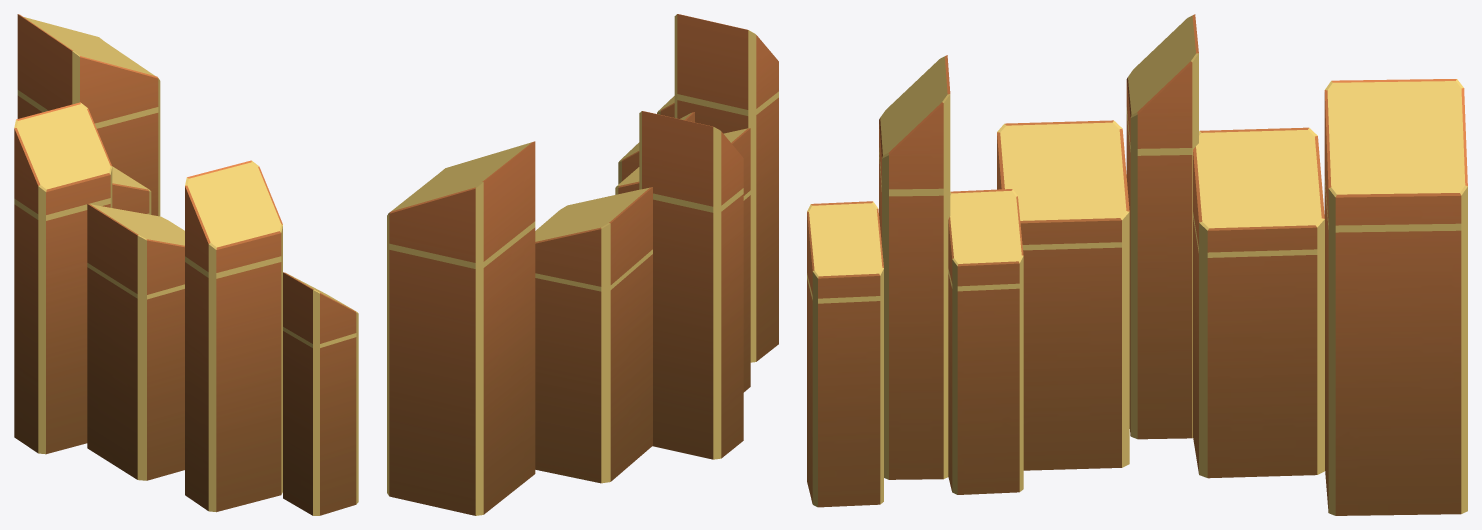
Rendered from building B.FBX.
The picture shows the model from 3 angles, left to right: view 1: azimuth 30°, elevation 25°; view 2: azimuth 150°, elevation 25°; view 3: azimuth 270°, elevation 25°; orthographic projection. The views are drawn at different scales.
Visible parts, largest first — view 1: Object1; view 2: Object1; view 3: Object1.
Boxes of the visible parts, <box> form: Object1: <box>14,14,358,515</box>; Object1: <box>387,14,778,515</box>; Object1: <box>807,14,1467,515</box>.
Size of the model in its own units: 84.68 by 123 by 193.
Materials: 1 (1 with a texture image).
